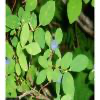Blueberry leaf: (39, 1, 56, 27), (68, 54, 91, 73), (67, 1, 84, 24), (63, 72, 75, 97), (59, 50, 72, 73), (18, 20, 28, 49), (34, 27, 47, 49), (25, 41, 42, 57), (6, 14, 19, 32), (18, 53, 29, 73), (36, 68, 48, 85), (9, 57, 18, 79), (5, 42, 15, 59), (54, 27, 62, 46), (38, 55, 48, 70), (45, 28, 52, 49), (53, 69, 62, 83), (47, 67, 53, 84), (15, 63, 22, 75), (48, 58, 53, 68)
